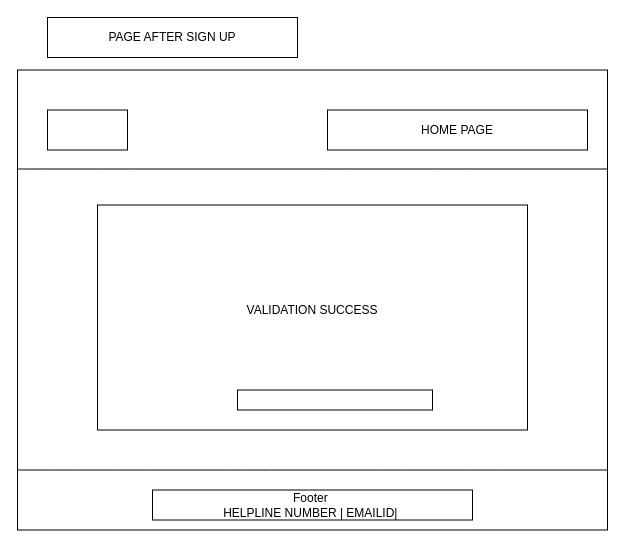
Some shapes in this 626 by 548 pixel diagram are drawn without their labels. The centre of each missing label's shape, as x and y in pixels:
LOGO: the point at 87,129
RETUTN TO HOME PAGE: the point at 334,399
